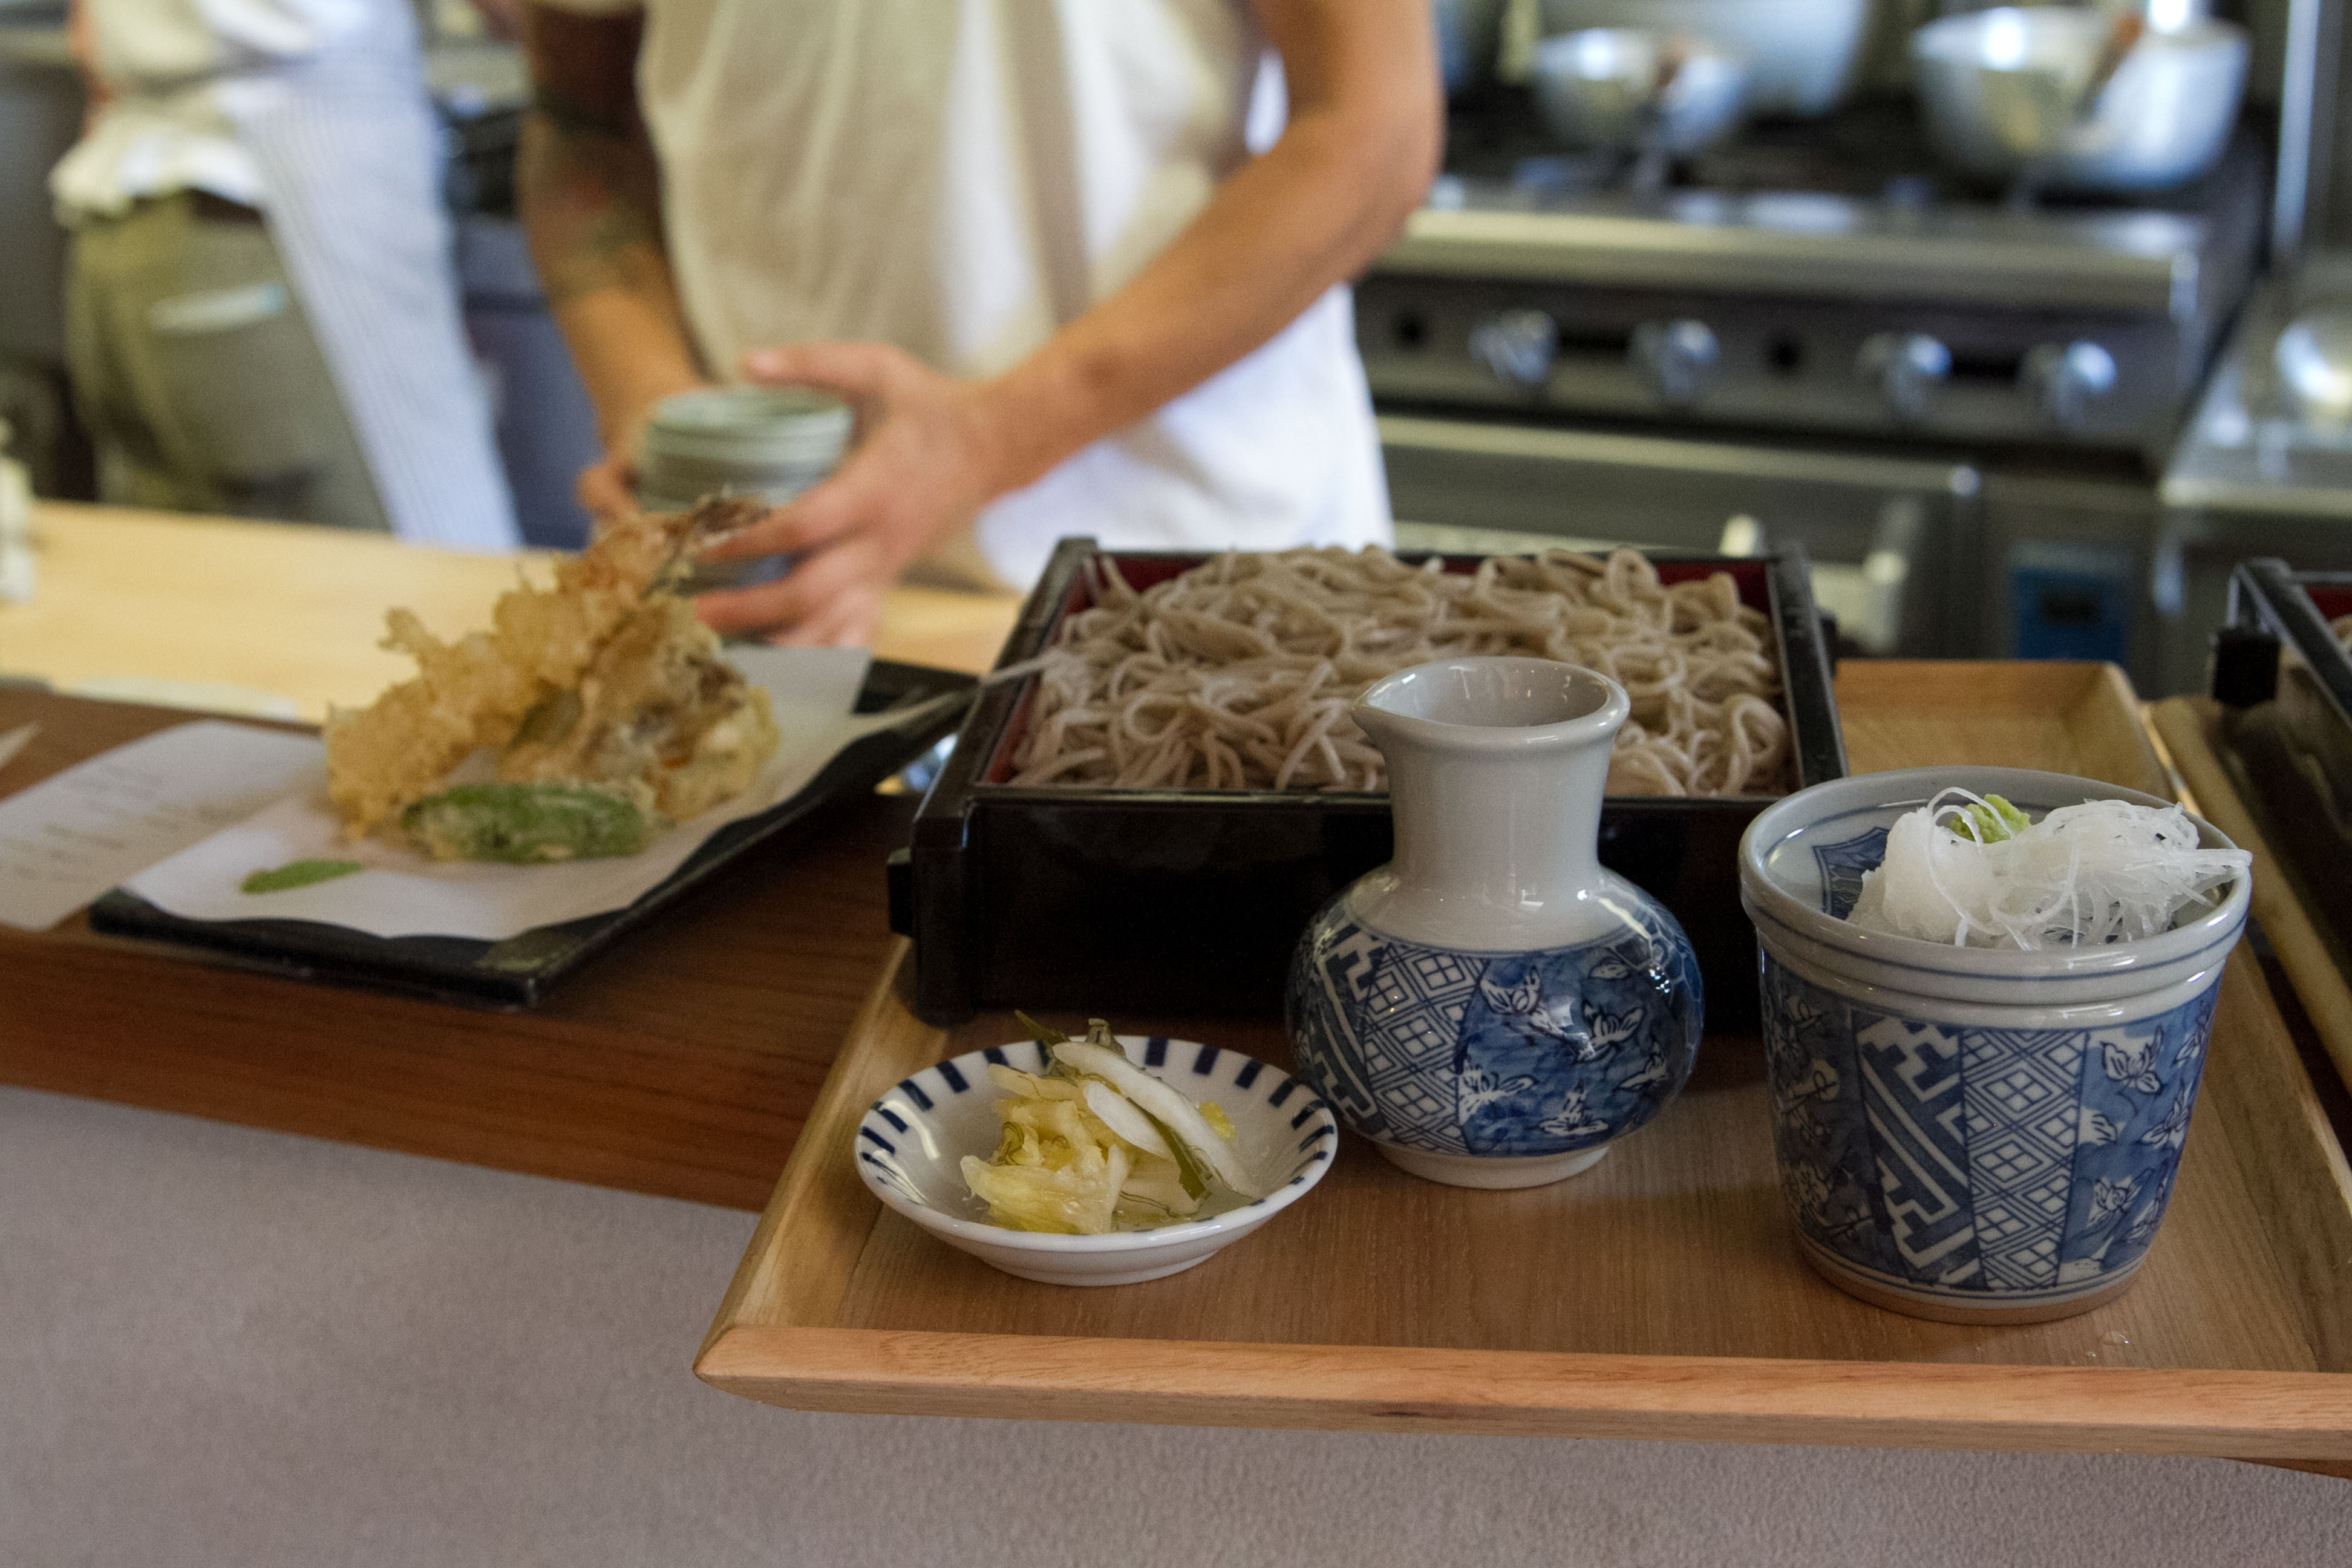Soba: (1027, 518, 1829, 765)
